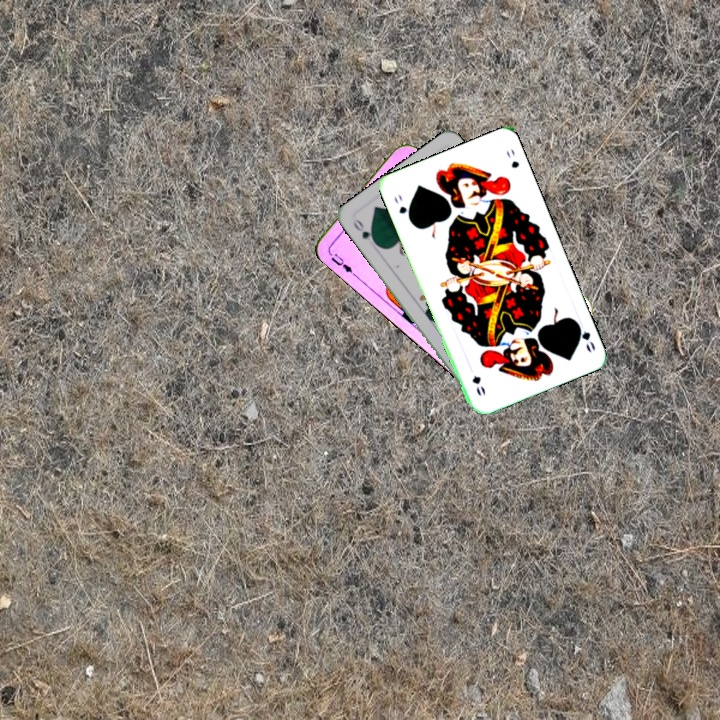EU: (327, 249, 357, 277)
GO: (349, 215, 380, 248), (572, 317, 598, 355), (390, 189, 414, 225)
